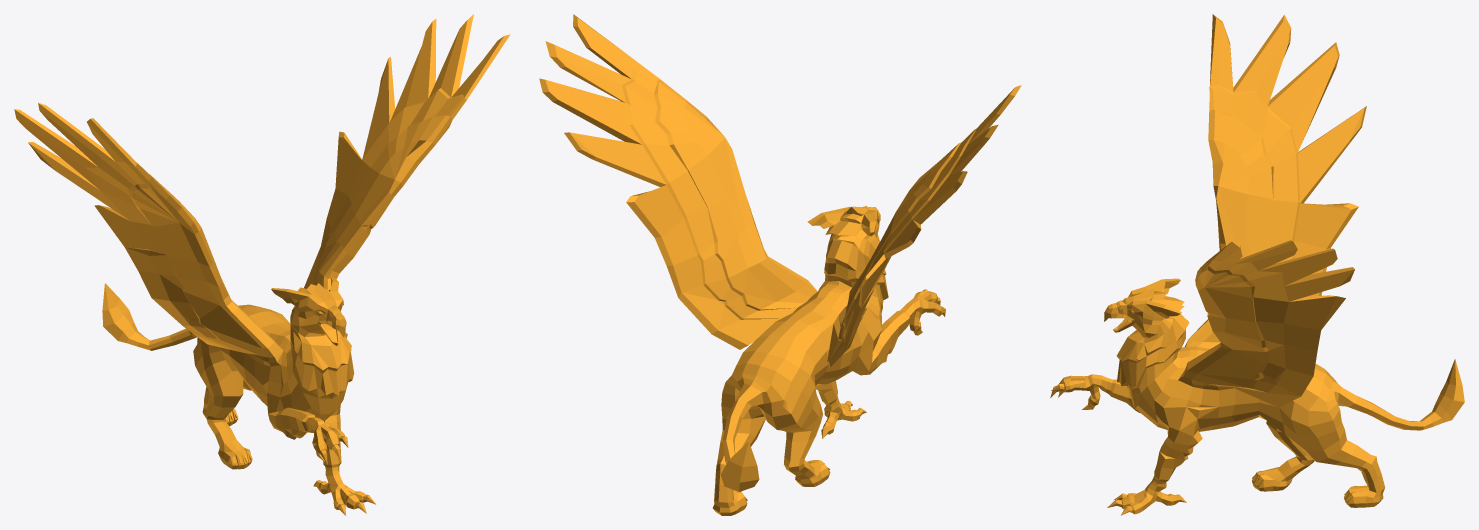
Rendered from SM_Statue_Gryphon_C_Fantasy.fbx.
3 renders of one model, left to right at view 1: azimuth 30°, elevation 25°; view 2: azimuth 150°, elevation 25°; view 3: azimuth 270°, elevation 25°, orthographic. The views are drawn at different scales.
Visible parts, largest first — view 1: SM_Statue_Gryphon_Fantasy_C; view 2: SM_Statue_Gryphon_Fantasy_C; view 3: SM_Statue_Gryphon_Fantasy_C.
Part boxes in pixels (x1,y1,x2,y2): SM_Statue_Gryphon_Fantasy_C: (14,14,510,515); SM_Statue_Gryphon_Fantasy_C: (539,14,1021,515); SM_Statue_Gryphon_Fantasy_C: (1050,14,1464,515).
Bounding box in the file's own units: 5 × 4.4 × 4.22.
